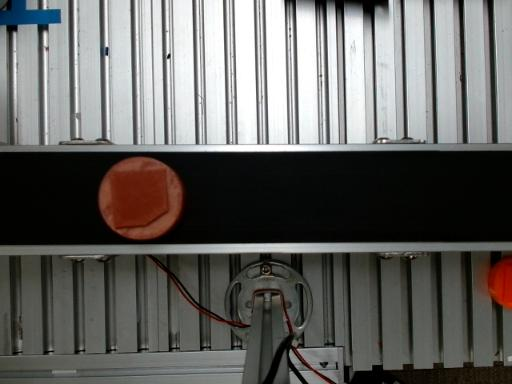Brown_Waper: (98, 157, 184, 240)
Not_Square: (109, 169, 169, 229)
